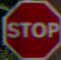Stop: (6, 7, 58, 51)
